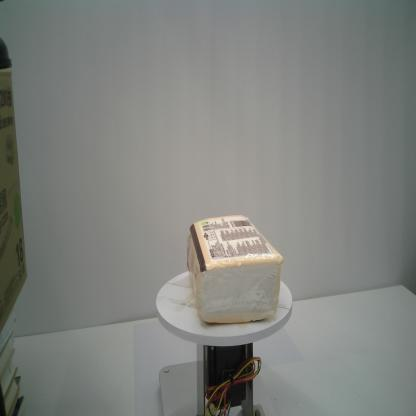Tissue: (186, 214, 284, 324)
